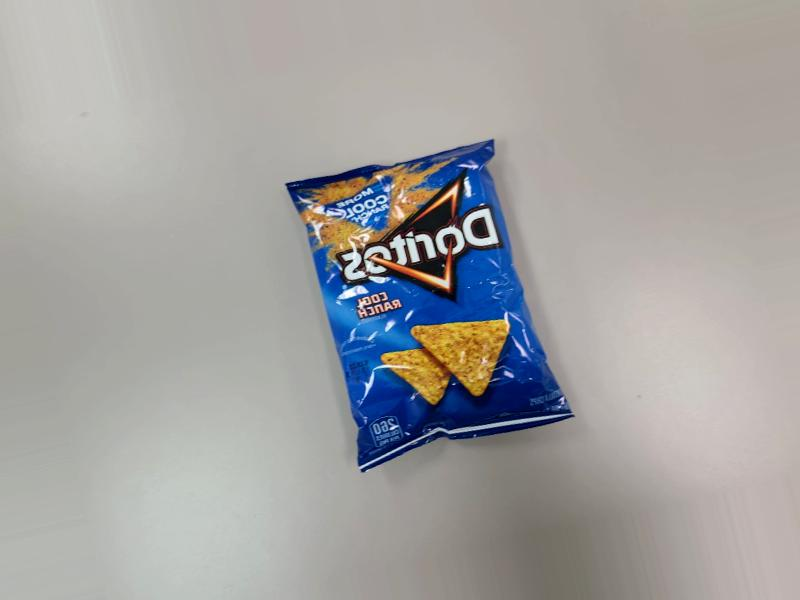doritos: (260, 143, 549, 470)
